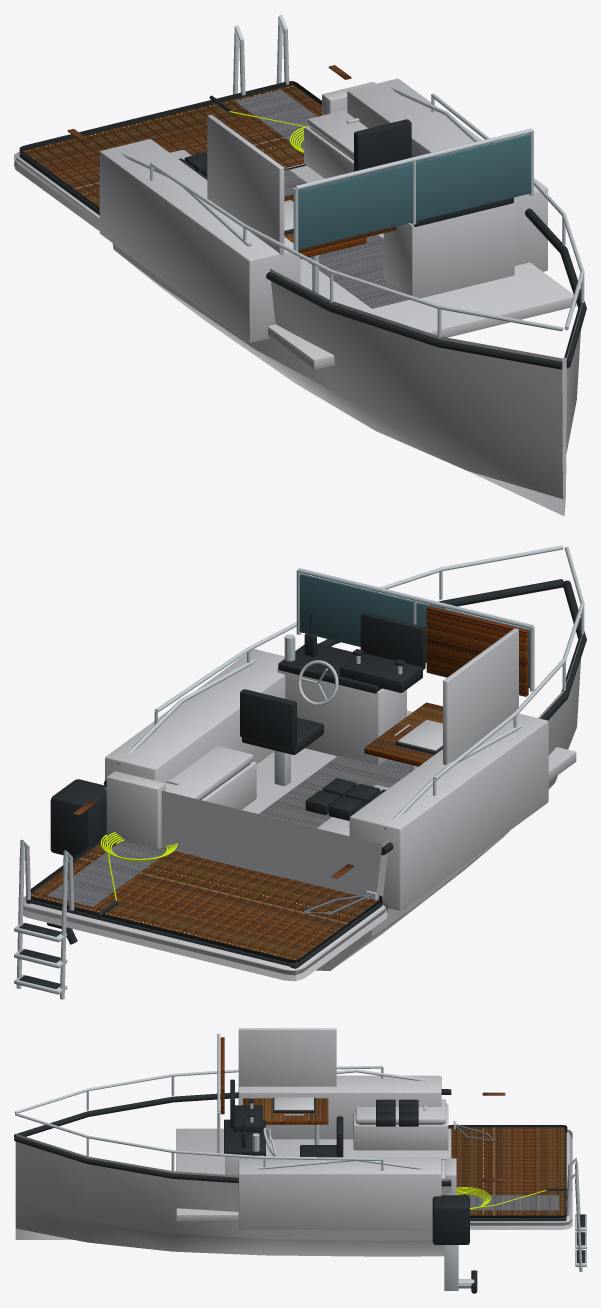
File: small_boat.glb
The picture shows the model from 3 angles, top to bottom: view 1: azimuth 30°, elevation 25°; view 2: azimuth 150°, elevation 25°; view 3: azimuth 270°, elevation 25°; orthographic projection. The views are drawn at different scales.
Parts seen in each view (by area): view 1: Fibreglass, Windshield, TeakPlanks, SeamsAndRubber, Stainless, NonSlip; view 2: Fibreglass, TeakPlanks, SeamsAndRubber, Stainless, NonSlip, Windshield, CoiledUmbilical; view 3: Fibreglass, SeamsAndRubber, TeakPlanks, Stainless, NonSlip, CoiledUmbilical.
Boxes of the visible parts, x1=… form: Fibreglass: x1=14, y1=78, x2=582, y2=516; Windshield: x1=298, y1=134, x2=531, y2=249; TeakPlanks: x1=21, y1=84, x2=396, y2=259; SeamsAndRubber: x1=19, y1=81, x2=586, y2=369; Stainless: x1=120, y1=14, x2=584, y2=337; NonSlip: x1=235, y1=90, x2=408, y2=308; Fibreglass: x1=23, y1=628, x2=582, y2=981; TeakPlanks: x1=31, y1=606, x2=528, y2=963; SeamsAndRubber: x1=19, y1=579, x2=586, y2=988; Stainless: x1=14, y1=545, x2=584, y2=999; NonSlip: x1=47, y1=755, x2=410, y2=907; Windshield: x1=299, y1=573, x2=529, y2=688; CoiledUmbilical: x1=100, y1=832, x2=177, y2=900; Fibreglass: x1=15, y1=1028, x2=572, y2=1256; SeamsAndRubber: x1=14, y1=1079, x2=585, y2=1293; TeakPlanks: x1=220, y1=1037, x2=564, y2=1217; Stainless: x1=15, y1=1033, x2=586, y2=1290; NonSlip: x1=441, y1=1159, x2=559, y2=1210; CoiledUmbilical: x1=456, y1=1187, x2=546, y2=1209.
Size of the model in its own units: 3.97 by 2.93 by 8.75.
Materials: 10 (4 with a texture image).
